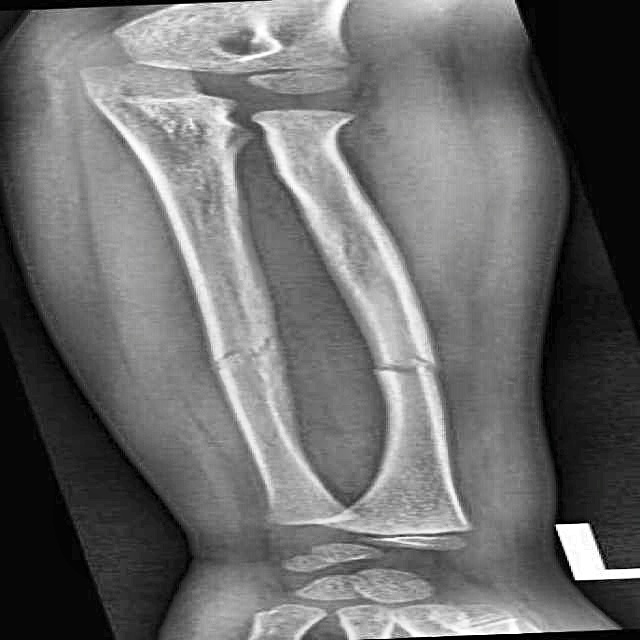Oblique Displaced: (185, 320, 293, 383)
Transverse Displaced: (355, 343, 480, 388)
